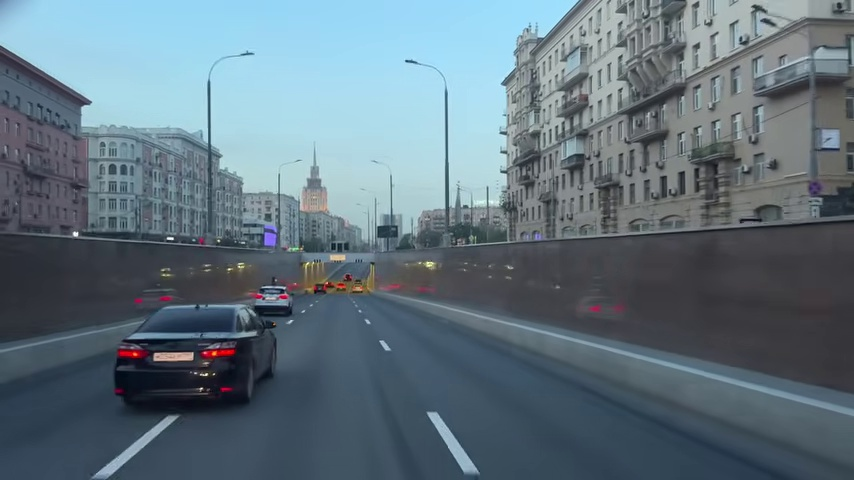apagada: (403, 55, 420, 70), (238, 48, 255, 61)
